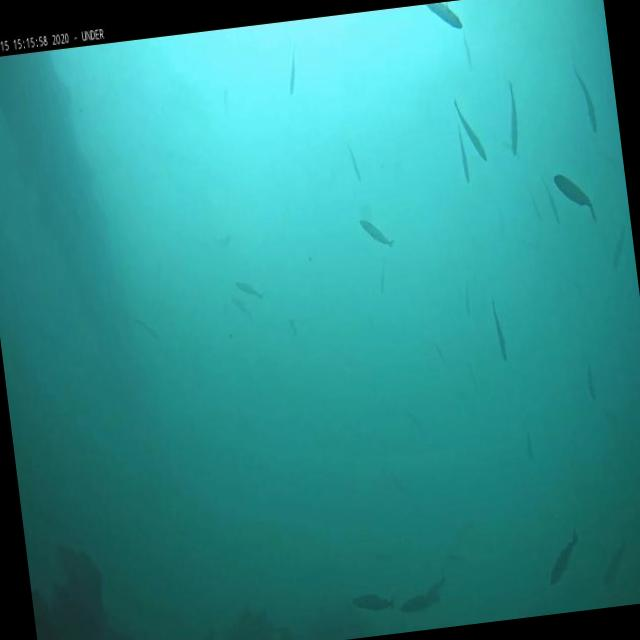fish: (552, 171, 596, 223), (546, 534, 584, 584), (455, 98, 484, 162), (572, 60, 596, 132), (598, 540, 632, 585), (422, 0, 464, 32), (358, 215, 394, 252), (399, 586, 442, 614), (504, 84, 520, 152), (353, 588, 393, 614), (492, 303, 506, 362), (540, 177, 558, 222), (284, 48, 300, 96), (344, 142, 362, 184), (526, 182, 542, 223), (235, 278, 261, 300), (231, 295, 250, 320), (376, 258, 388, 294), (462, 280, 471, 313)
